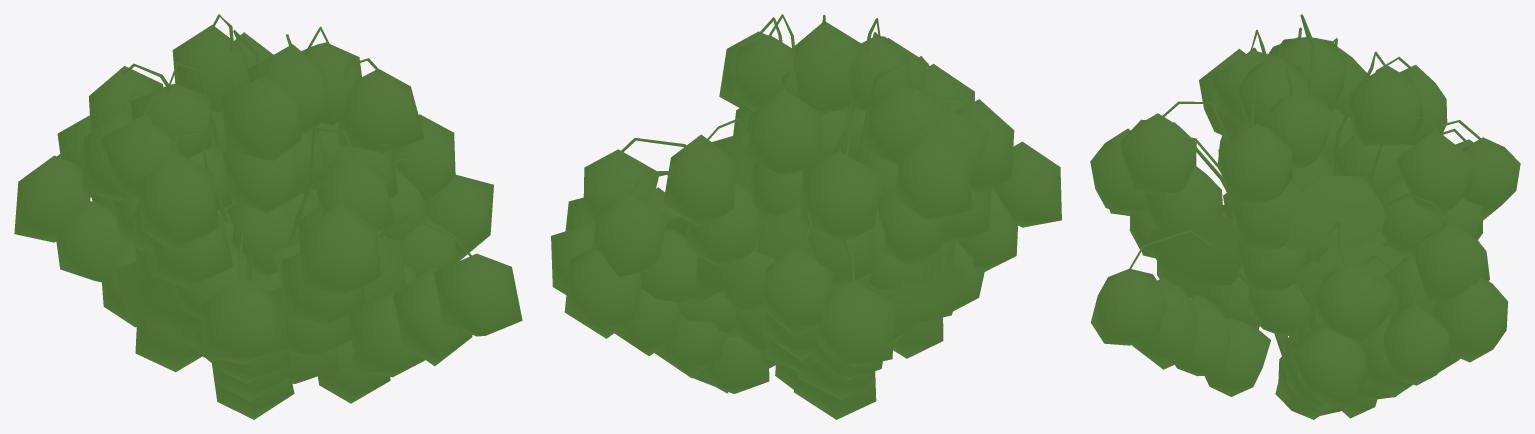
The model's file is Blender_ScotchBroom_1.glb.
3 renders of one model, left to right at view 1: azimuth 30°, elevation 25°; view 2: azimuth 150°, elevation 25°; view 3: azimuth 270°, elevation 25°, orthographic. The views are drawn at different scales.
Parts seen in each view (by area): view 1: Blender_ScotchBroom_1; view 2: Blender_ScotchBroom_1; view 3: Blender_ScotchBroom_1.
Boxes of the visible parts, <box> form: Blender_ScotchBroom_1: <box>14,14,522,419</box>; Blender_ScotchBroom_1: <box>551,14,1061,419</box>; Blender_ScotchBroom_1: <box>1090,14,1520,419</box>.
Bounding box in the file's own units: 2.31 × 2.04 × 2.26.
